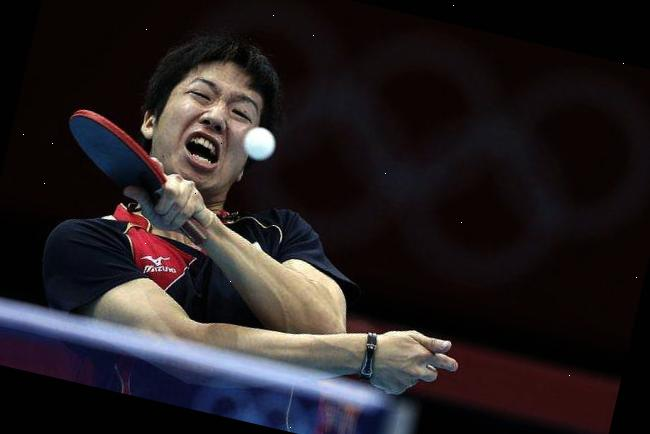ball: (233, 117, 283, 167)
